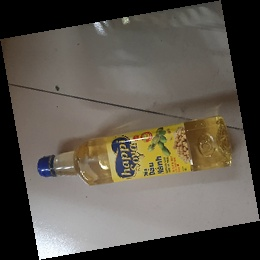Happy Soya: (38, 114, 236, 187)
